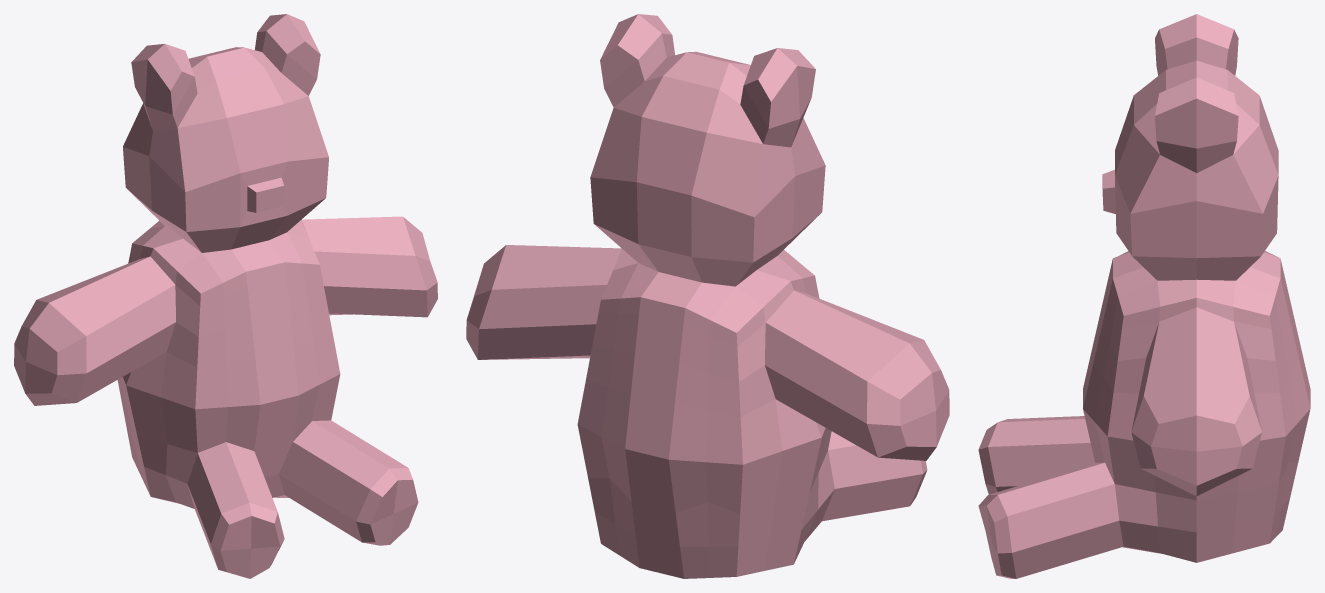
Rendered from peluche.fbx.
3 renders of one model, left to right at view 1: azimuth 30°, elevation 25°; view 2: azimuth 150°, elevation 25°; view 3: azimuth 270°, elevation 25°, orthographic. The views are drawn at different scales.
Parts seen in each view (by area): view 1: Peluche; view 2: Peluche; view 3: Peluche.
Part boxes in pixels (x1,y1,x2,y2): Peluche: (14, 14, 437, 578); Peluche: (466, 14, 949, 578); Peluche: (978, 14, 1310, 578).
Size of the model in its own units: 9.24 by 10.36 by 6.22.
